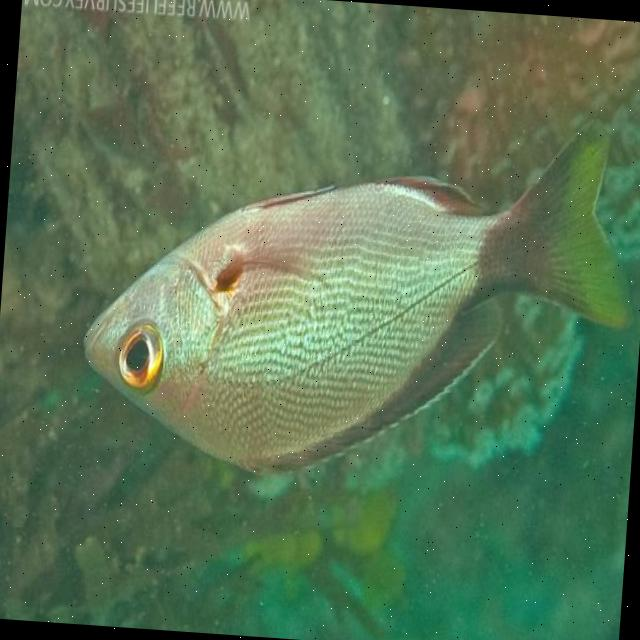ikan: (74, 81, 640, 503)
